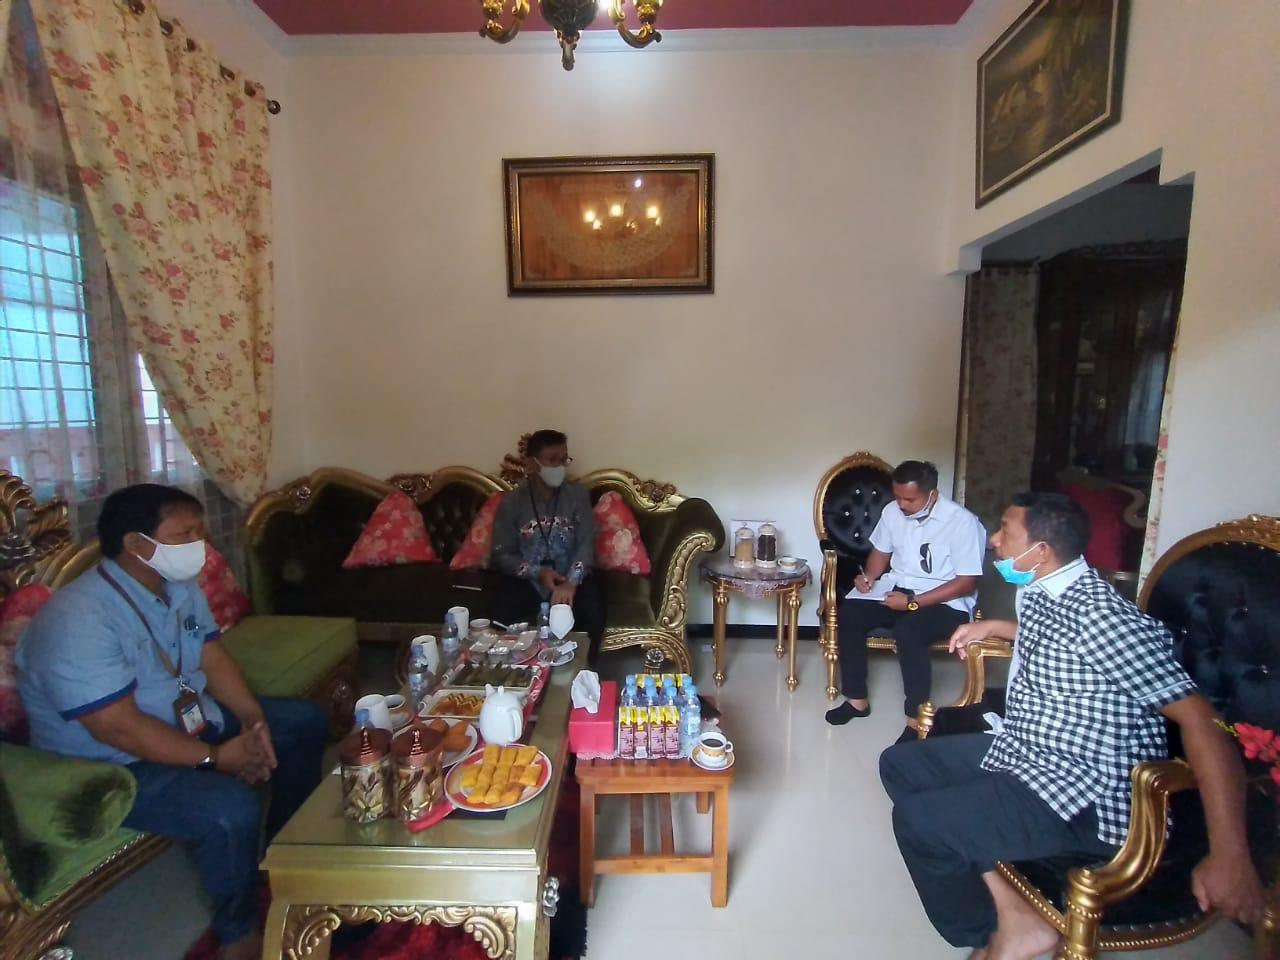meja: (562, 684, 746, 911)
